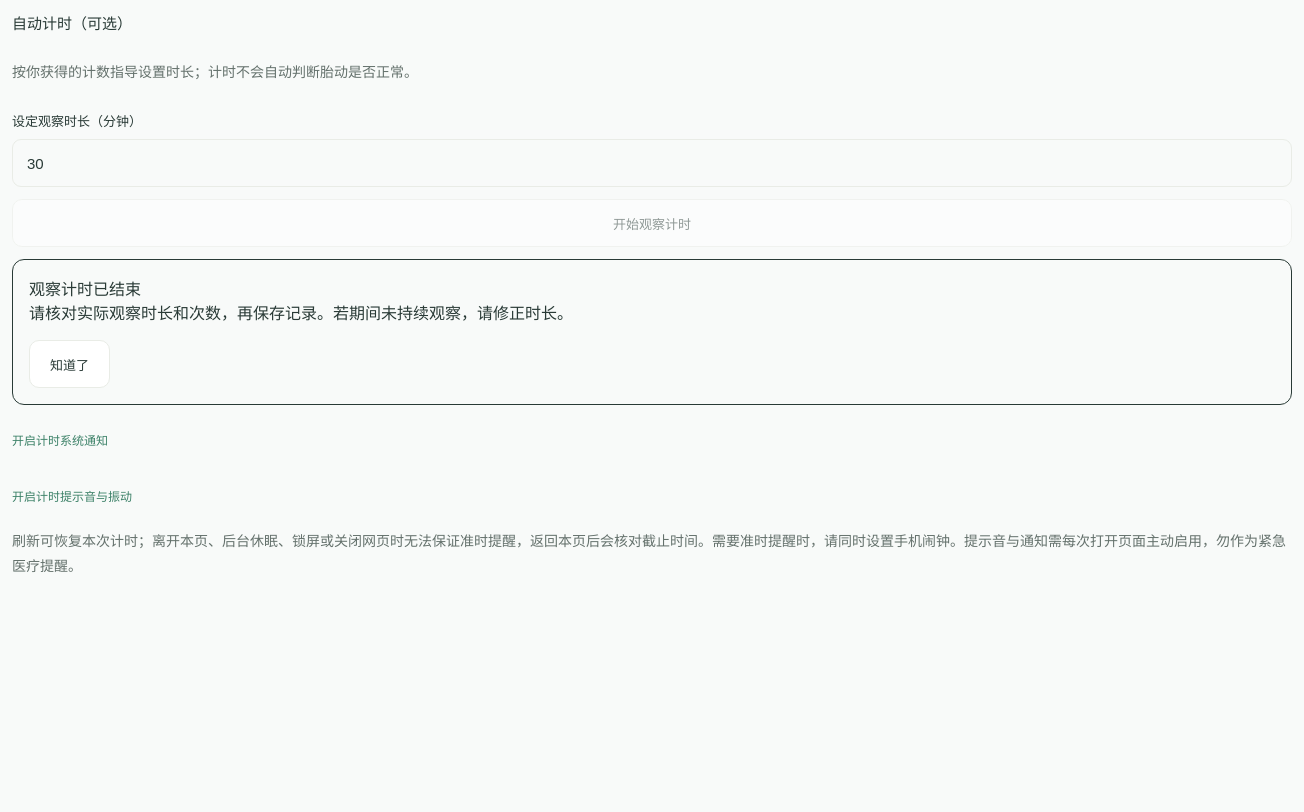
Test: keeps an inline result when audio is unsupported
Step 1. Click the button "开启计时提示音与振动" → [72, 497], box x1=12 y1=473 x2=1292 y2=517
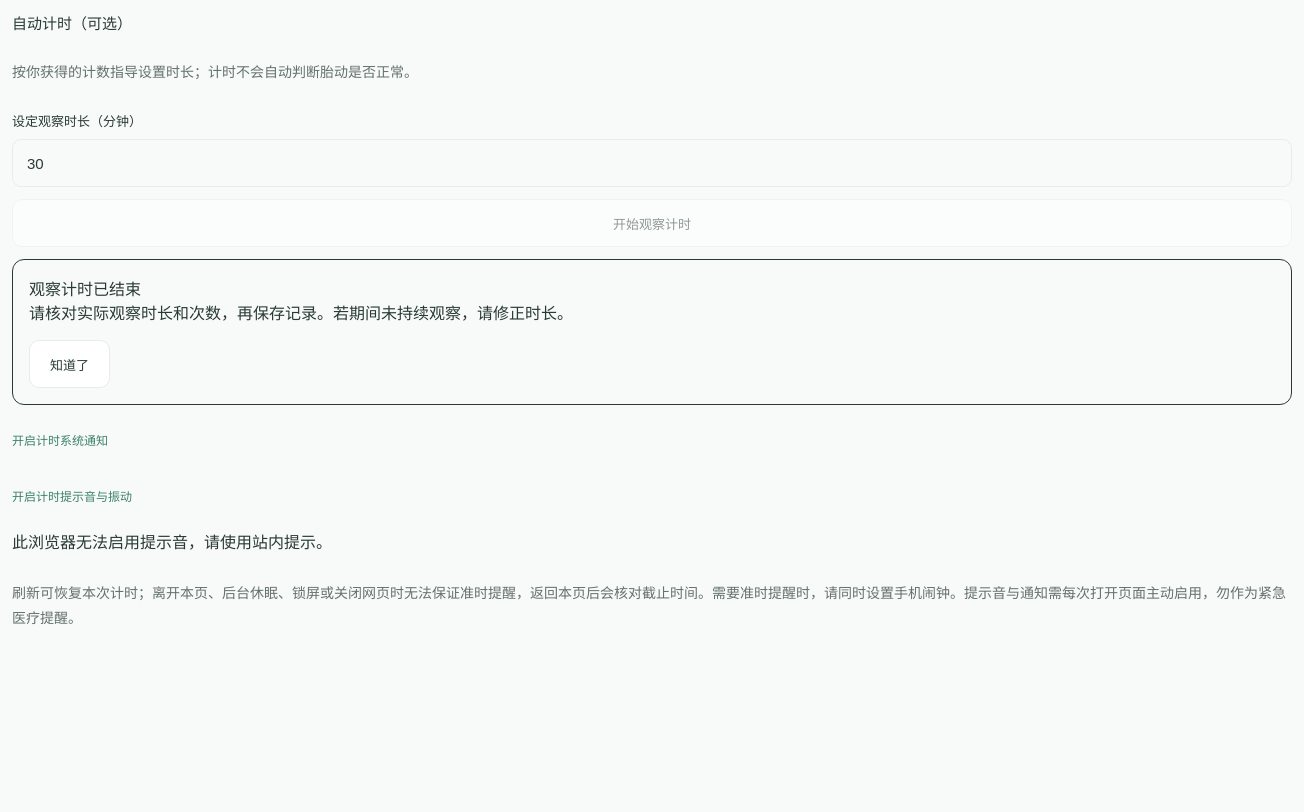
expect the message "观察计时已结束 请核对实际观察时长和次数，再保存记录。若期间未持续观察，请修正时长。 知道了" is shown: met, box x1=12 y1=259 x2=1292 y2=405
expect the text "无法启用提示音" is shown: met, box x1=12 y1=534 x2=332 y2=551
